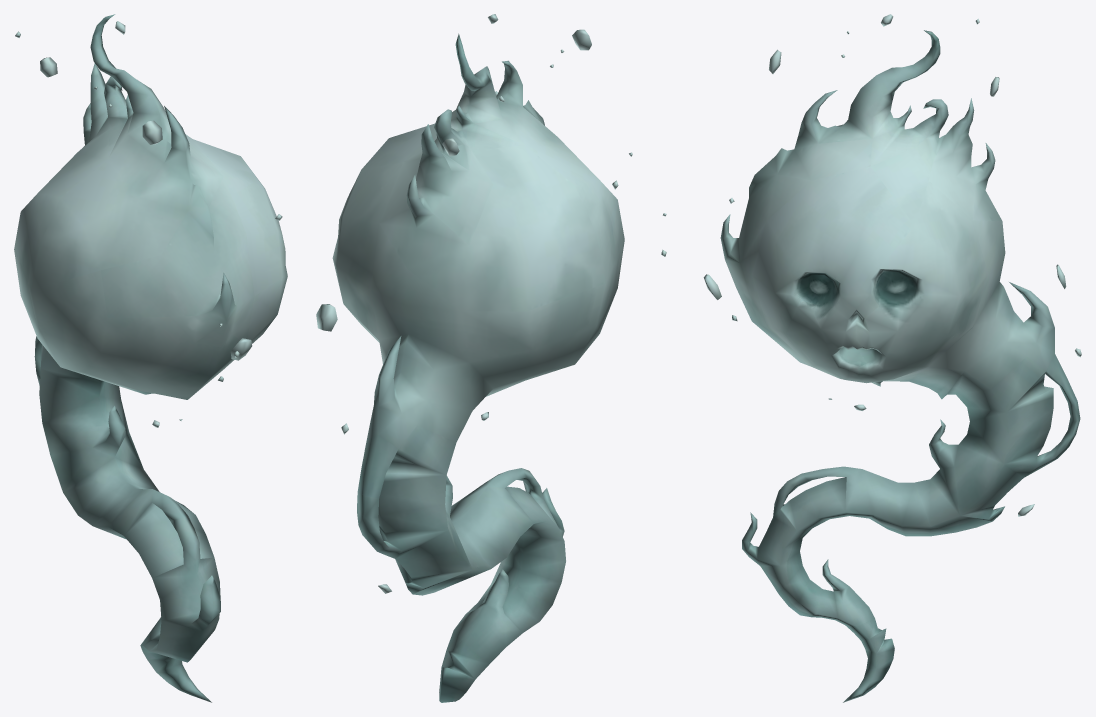
Rendered from fen_wisp.glb.
3 renders of one model, left to right at view 1: azimuth 30°, elevation 25°; view 2: azimuth 150°, elevation 25°; view 3: azimuth 270°, elevation 25°, orthographic. The views are drawn at different scales.
Parts seen in each view (by area): view 1: tripo_node_1f5a38d6-df3d-4581-9199-287bcbadf1f8; view 2: tripo_node_1f5a38d6-df3d-4581-9199-287bcbadf1f8; view 3: tripo_node_1f5a38d6-df3d-4581-9199-287bcbadf1f8.
Boxes of the visible parts, x1,y1,x2,y2 form: tripo_node_1f5a38d6-df3d-4581-9199-287bcbadf1f8: (14, 14, 287, 702); tripo_node_1f5a38d6-df3d-4581-9199-287bcbadf1f8: (316, 14, 632, 702); tripo_node_1f5a38d6-df3d-4581-9199-287bcbadf1f8: (661, 14, 1081, 702).
Bounding box in the file's own units: 0.3613 × 0.998 × 0.5801.
1 material, 1 textured.
